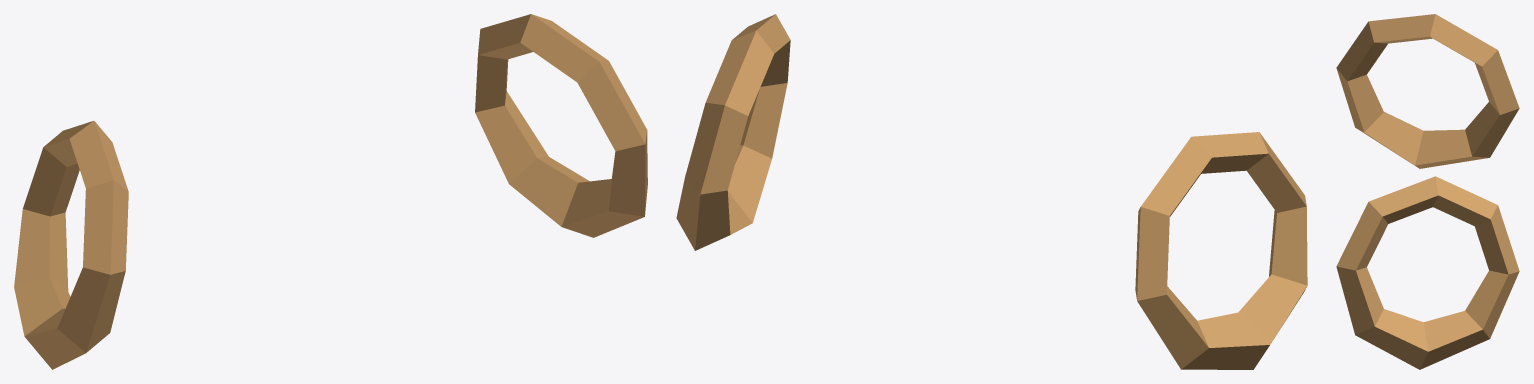
Rendered from SM_Chr_Attach_Earrings_Large_01.fbx.
The picture shows the model from 3 angles, left to right: view 1: azimuth 30°, elevation 25°; view 2: azimuth 150°, elevation 25°; view 3: azimuth 270°, elevation 25°; orthographic projection. The views are drawn at different scales.
Visible parts, largest first — view 1: SM_Chr_Attach_Earrings_Large_01; view 2: SM_Chr_Attach_Earrings_Large_01; view 3: SM_Chr_Attach_Earrings_Large_01.
Part boxes in pixels (x1,y1,x2,y2): SM_Chr_Attach_Earrings_Large_01: [14, 14, 647, 369]; SM_Chr_Attach_Earrings_Large_01: [676, 14, 1307, 369]; SM_Chr_Attach_Earrings_Large_01: [1336, 14, 1519, 369].
Size of the model in its own units: 31.25 by 11.58 by 11.03.
